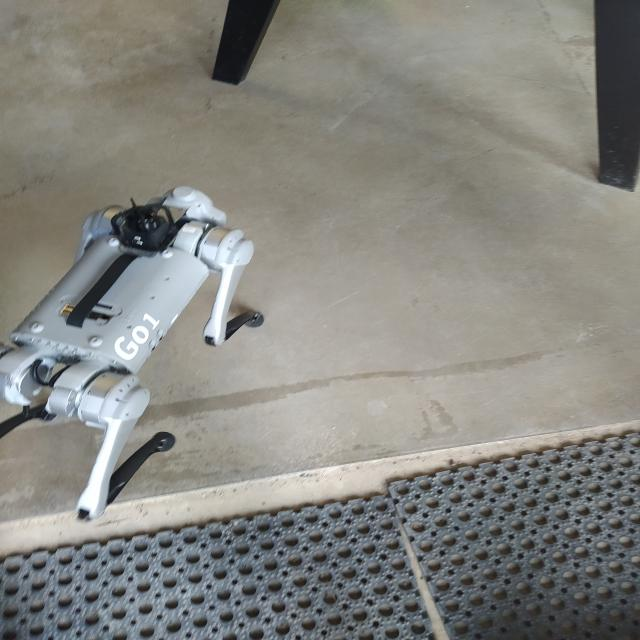unitree-go1-robot: (0, 167, 293, 535)
